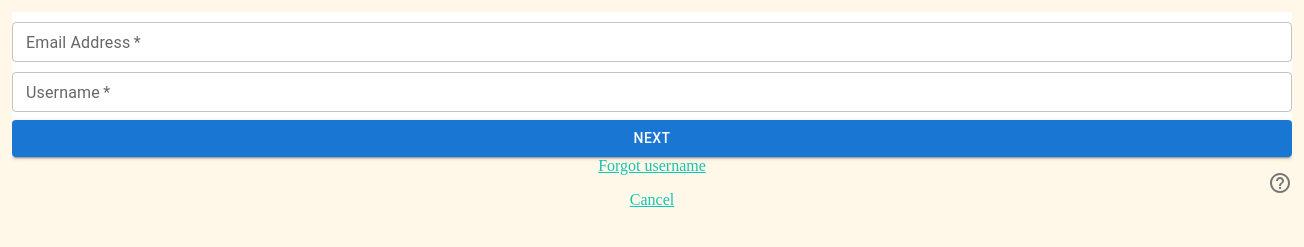
Test: UserLookup › shows username not found
Type "taken@email.com" into the field labelled "Email Address *" at (652, 42), box [12,22,1292,62]
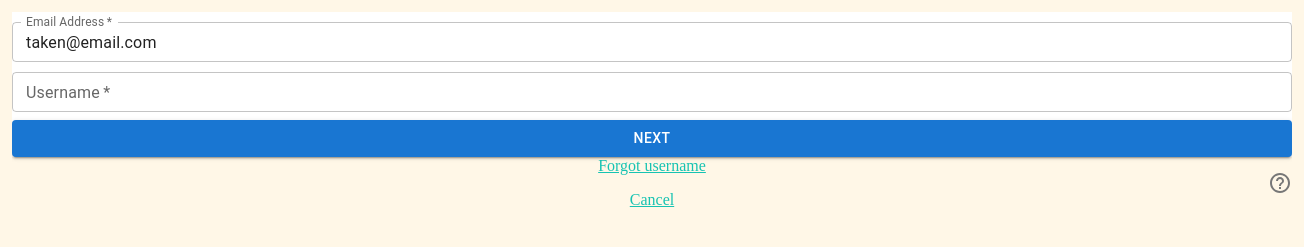
Type "badUser" into the field labelled "Username *" at (652, 92), box [12,72,1292,112]
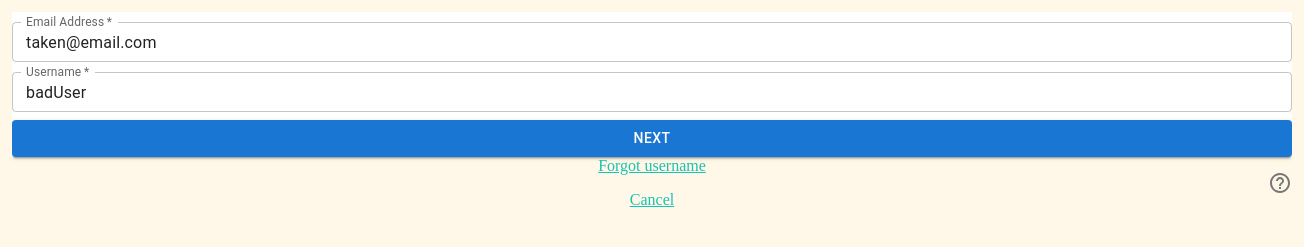
Click the button "Next" at (652, 138), box [12,120,1292,156]
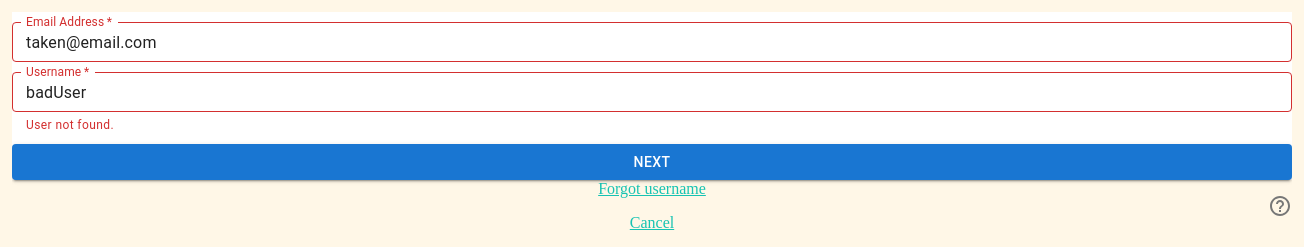
Expected: the text "User not found." is shown, [26,118,114,132]
